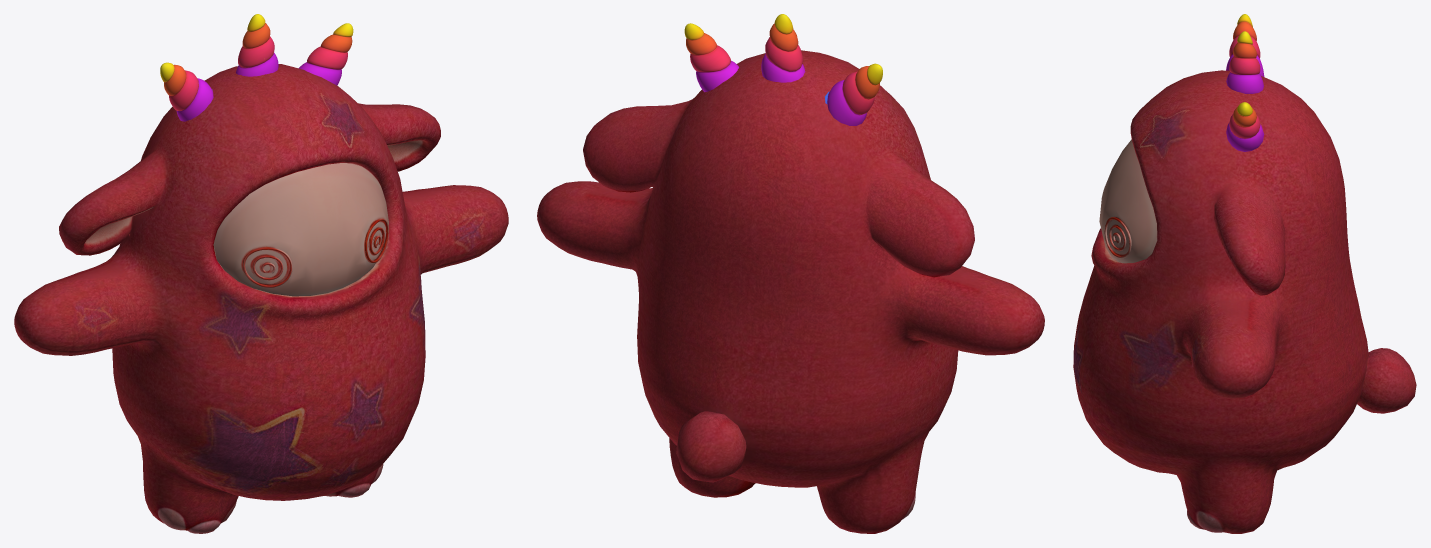
The model's file is Alien3.fbx.
3 renders of one model, left to right at view 1: azimuth 30°, elevation 25°; view 2: azimuth 150°, elevation 25°; view 3: azimuth 270°, elevation 25°, orthographic. The views are drawn at different scales.
Visible parts, largest first — view 1: BaseAlien, horn.003, horn.005, horn.004; view 2: BaseAlien, horn.003, horn.005, horn.004; view 3: BaseAlien, horn.005, horn.004, horn.003.
Part boxes in pixels (bbox=[...]): BaseAlien: bbox=[14, 64, 508, 533]; horn.003: bbox=[160, 62, 213, 121]; horn.005: bbox=[236, 14, 278, 76]; horn.004: bbox=[298, 23, 353, 85]; BaseAlien: bbox=[537, 50, 1044, 533]; horn.003: bbox=[824, 63, 882, 125]; horn.005: bbox=[761, 14, 805, 82]; horn.004: bbox=[684, 23, 738, 92]; BaseAlien: bbox=[1073, 70, 1416, 533]; horn.005: bbox=[1226, 31, 1263, 93]; horn.004: bbox=[1226, 102, 1264, 151]; horn.003: bbox=[1226, 14, 1264, 76].
Size of the model in its own units: 106 by 102 by 68.99.
4 materials, 4 textured.
